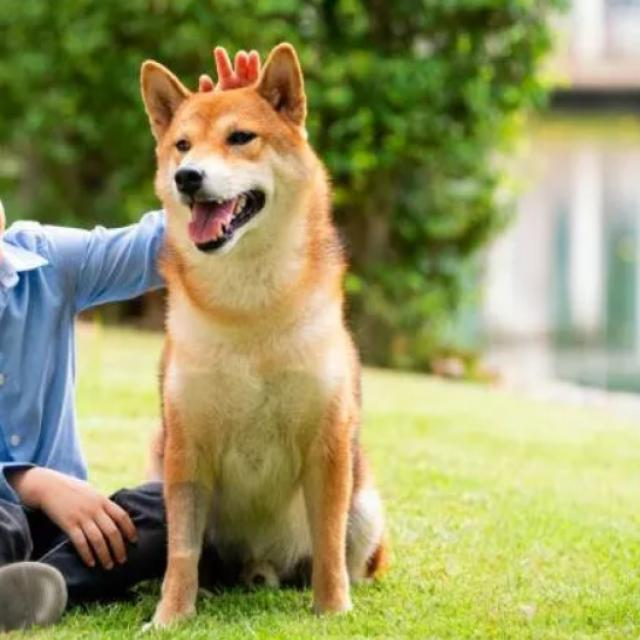dogs: (136, 39, 392, 629)
